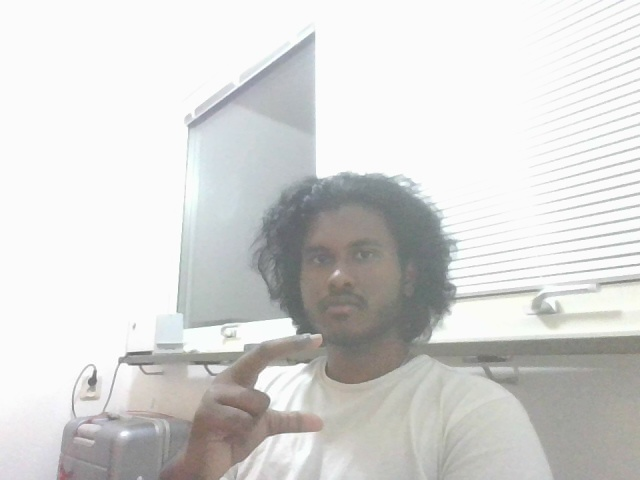no: (167, 324, 359, 480)
